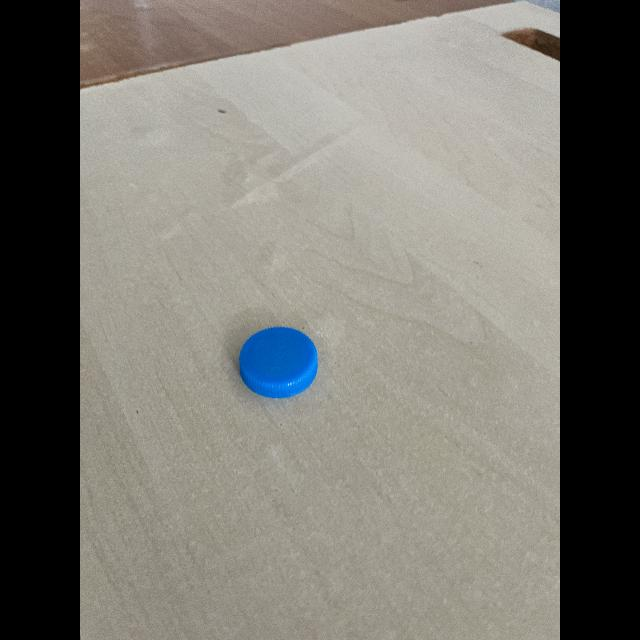plastic_bottle_cap: (236, 320, 320, 406)
